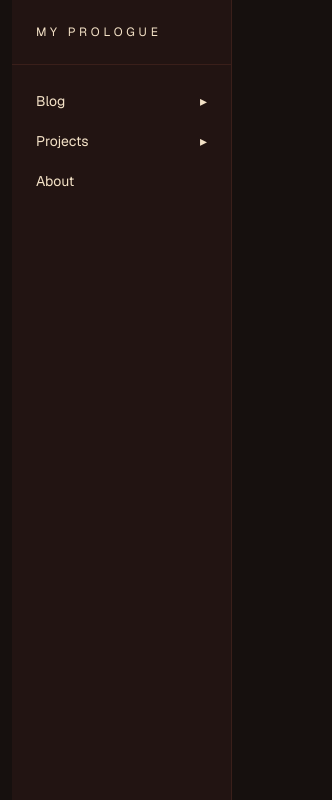
Test case: Sidebar › expands Blog cascade on click and shows up to 10 entries
Click the button "Blog ▸". click: [122, 101]
box: [12, 81, 231, 121]
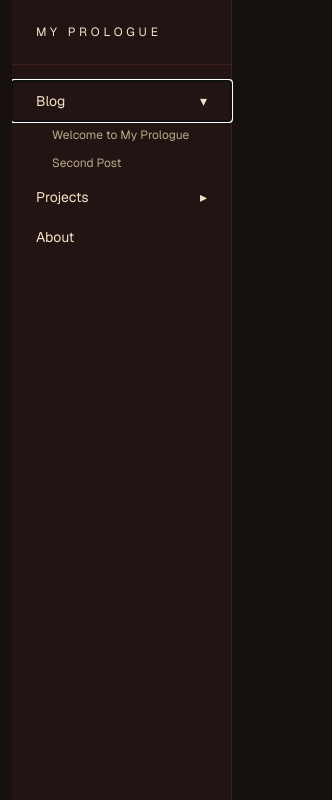
Result: the link "Welcome to My Prologue" is shown at [52, 127, 189, 143]
Result: the link "Second Post" is shown at [52, 155, 121, 171]
